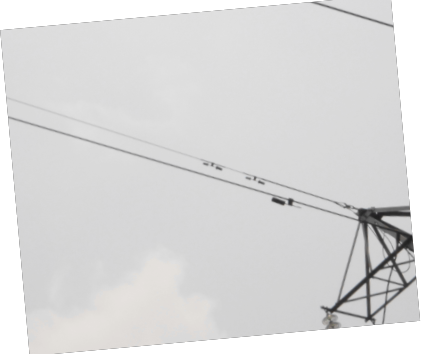damper: (201, 160, 224, 171), (244, 174, 266, 184)
damper_defect: (270, 195, 303, 208)
